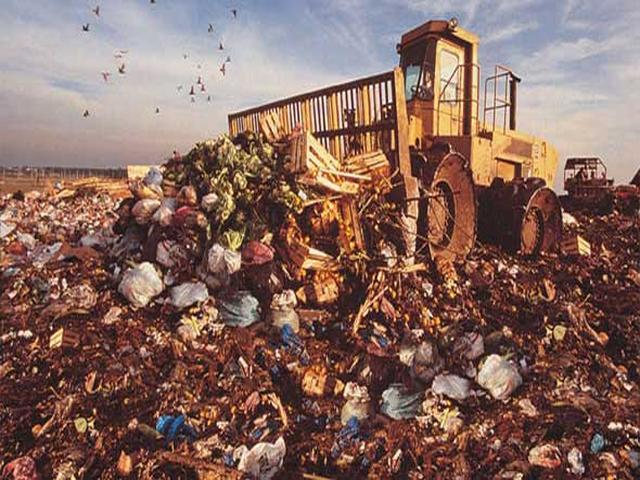garbage: (16, 233, 599, 451)
